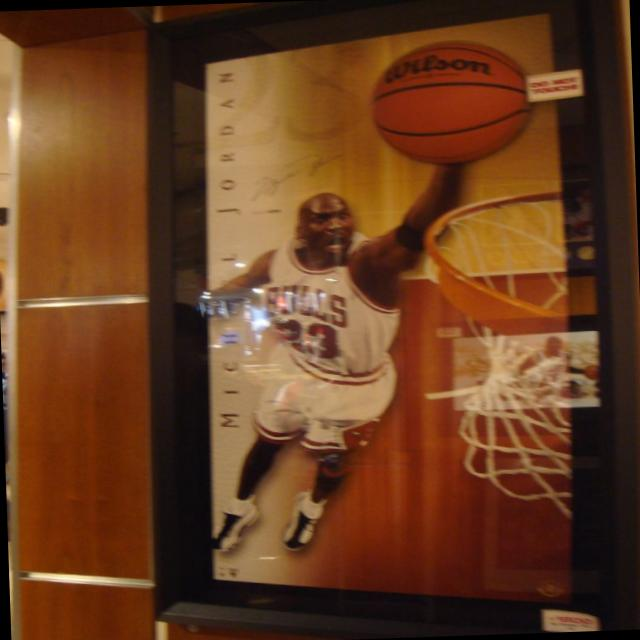Ball: (369, 39, 533, 162)
